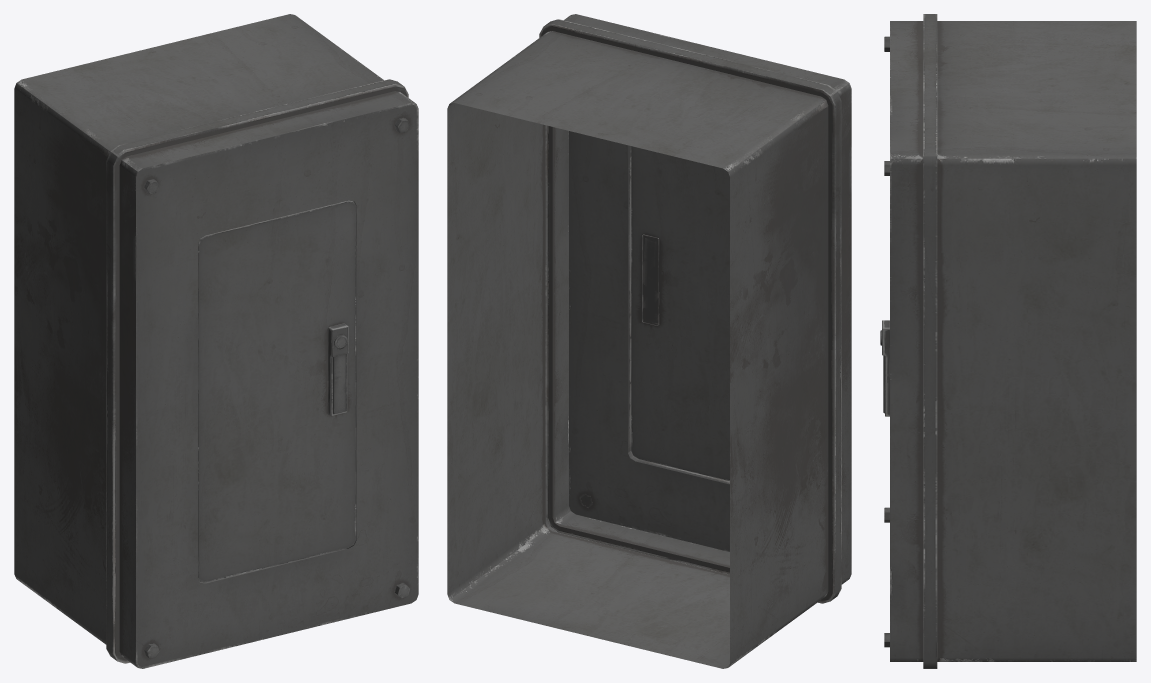
Rendered from electricBox_A.fbx.
3 views of the same model, side by side, from view 1: azimuth 30°, elevation 25°; view 2: azimuth 150°, elevation 25°; view 3: azimuth 270°, elevation 25° (orthographic).
Visible parts, largest first — view 1: electricBox_A; view 2: electricBox_A; view 3: electricBox_A.
Boxes of the visible parts, box(x1,y1,x2,y2) form: electricBox_A: box(14, 14, 418, 668); electricBox_A: box(447, 14, 851, 668); electricBox_A: box(880, 14, 1136, 668).
Size of the model in its own units: 42.63 by 31.56 by 70.81.
